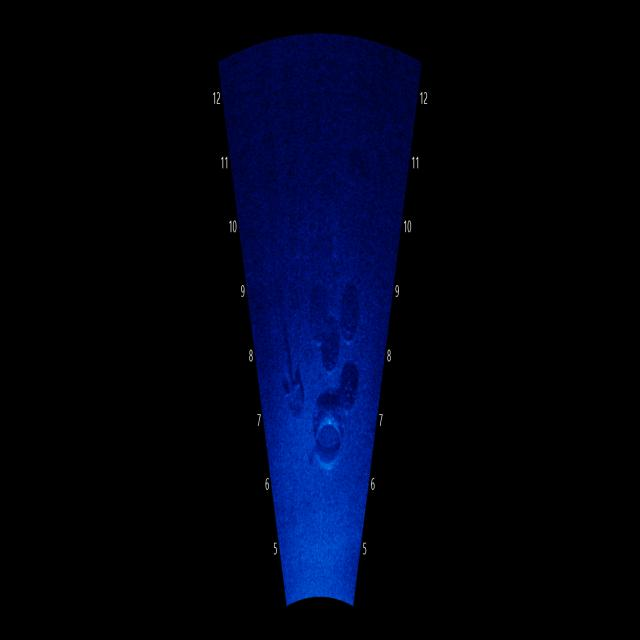circle: (308, 402, 343, 486), (333, 366, 366, 424), (336, 294, 362, 352)
